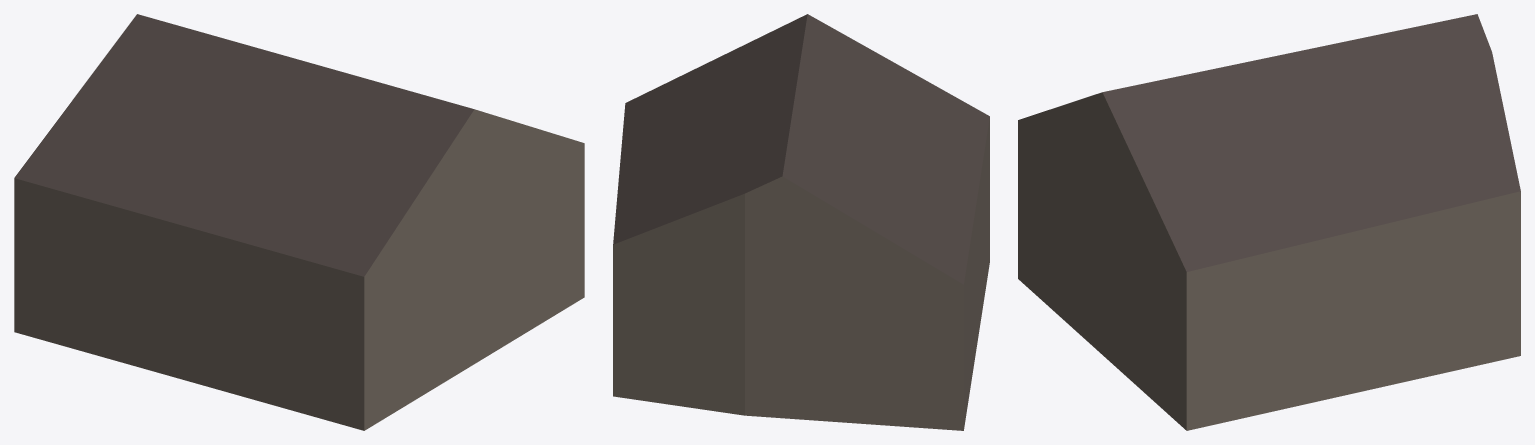
The picture shows the model from 3 angles, left to right: view 1: azimuth 30°, elevation 25°; view 2: azimuth 150°, elevation 25°; view 3: azimuth 270°, elevation 25°; orthographic projection. The views are drawn at different scales.
Visible parts, largest first — view 1: HP-w1513026724; view 2: HP-w1513026724; view 3: HP-w1513026724.
Boxes of the visible parts, box(x1,y1,x2,y2) form: HP-w1513026724: box(14, 14, 584, 430); HP-w1513026724: box(613, 14, 989, 430); HP-w1513026724: box(1018, 14, 1520, 430).
Size of the model in its own units: 18.89 by 9.93 by 17.22.
